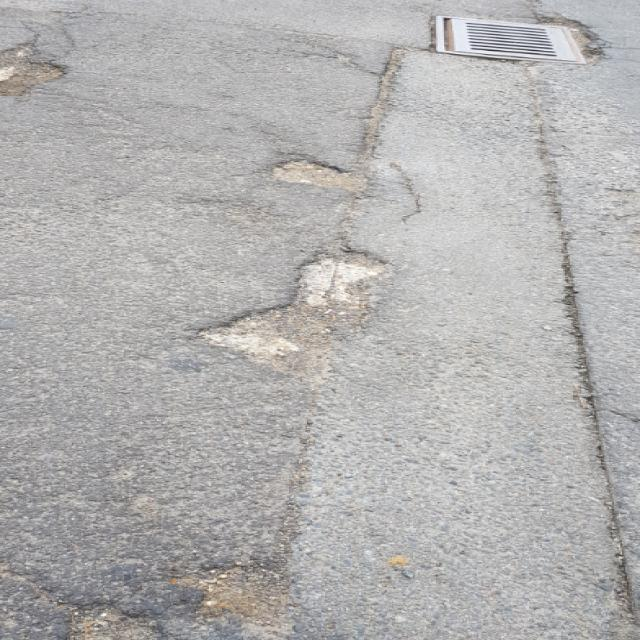pothole: (186, 242, 398, 376), (174, 555, 308, 625), (258, 146, 384, 200), (0, 34, 77, 100), (48, 598, 158, 640)
